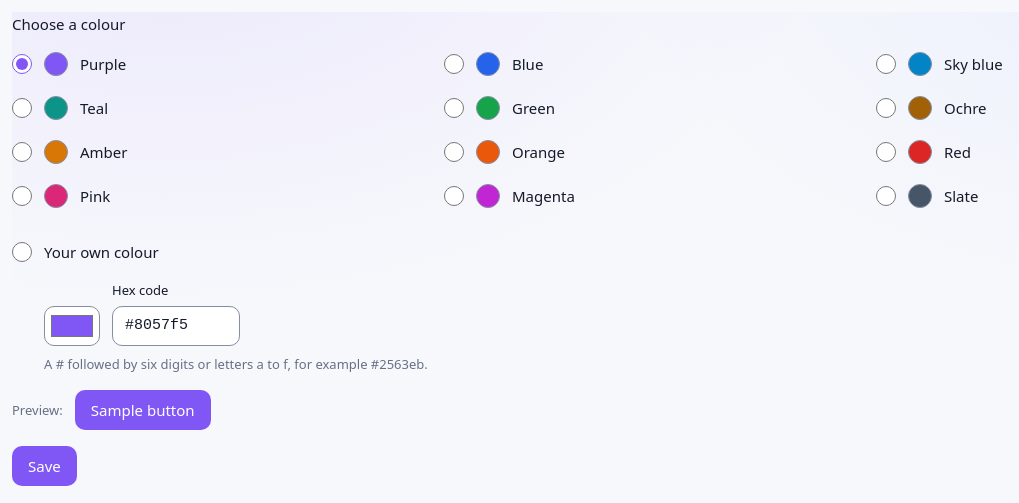
Test case: AccentSetting › says when a colour was adjusted for readable text
Replace the text in the field labelled "Hex code" with "#777777" at (176, 326), box [112, 306, 240, 346]
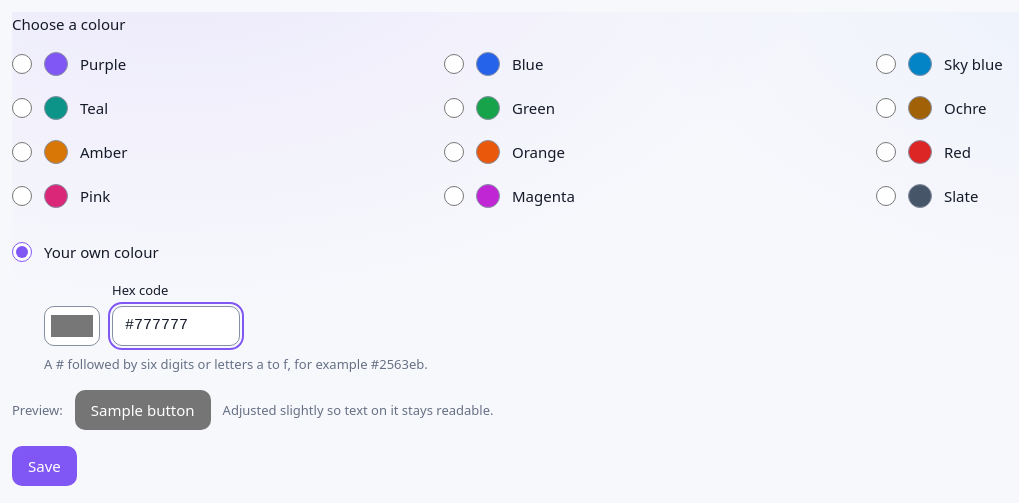
Check: the text "Adjusted slightly so text on it stays readable." is shown, box [223, 400, 494, 420]
